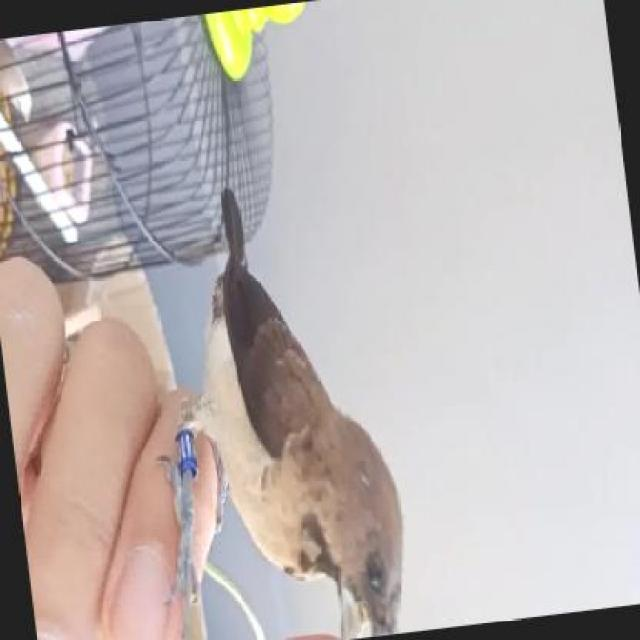Bird: (183, 181, 426, 640)
